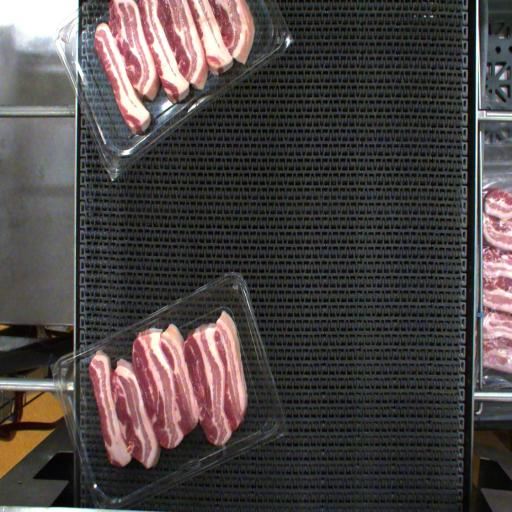packaging-error: (220, 440, 228, 454)
